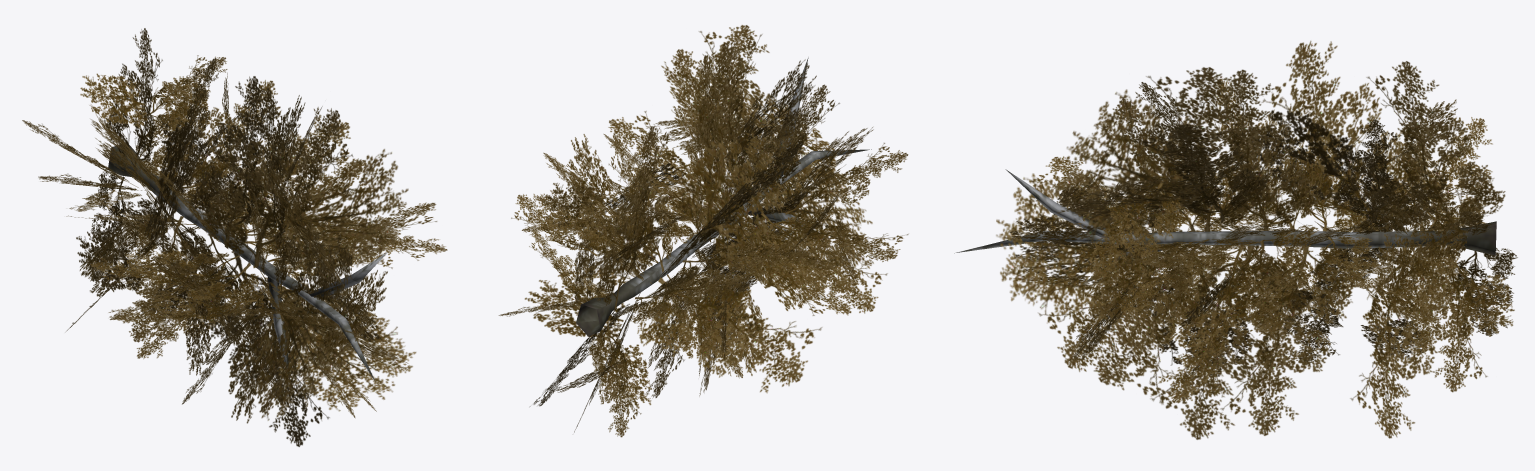
File: tree-oak.glb
3 renders of one model, left to right at view 1: azimuth 30°, elevation 25°; view 2: azimuth 150°, elevation 25°; view 3: azimuth 270°, elevation 25°, orthographic.
Parts seen in each view (by area): view 1: Tree_Branches_02_Tree_Branches_02_0, Tree_Trunk_02_Tree_Trunk_02_0; view 2: Tree_Branches_02_Tree_Branches_02_0, Tree_Trunk_02_Tree_Trunk_02_0; view 3: Tree_Branches_02_Tree_Branches_02_0, Tree_Trunk_02_Tree_Trunk_02_0.
Part boxes in pixels (x1,y1,x2,y2): Tree_Branches_02_Tree_Branches_02_0: (22, 28, 447, 446); Tree_Trunk_02_Tree_Trunk_02_0: (108, 143, 388, 380); Tree_Branches_02_Tree_Branches_02_0: (498, 25, 908, 437); Tree_Trunk_02_Tree_Trunk_02_0: (576, 57, 871, 336); Tree_Branches_02_Tree_Branches_02_0: (996, 41, 1517, 439); Tree_Trunk_02_Tree_Trunk_02_0: (954, 169, 1496, 283).
Size of the model in its own units: 6.62 by 7.66 by 10.2.
2 materials, 2 textured.
